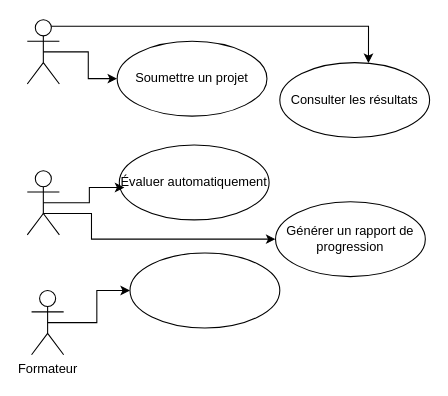
This 448x396 diagram has some shape labels left out. The centre of each missing label's shape, as x and y in pixels:
Etudiant: the point at 42,51
Système: the point at 42,202
Valider une compétence: the point at 204,290
